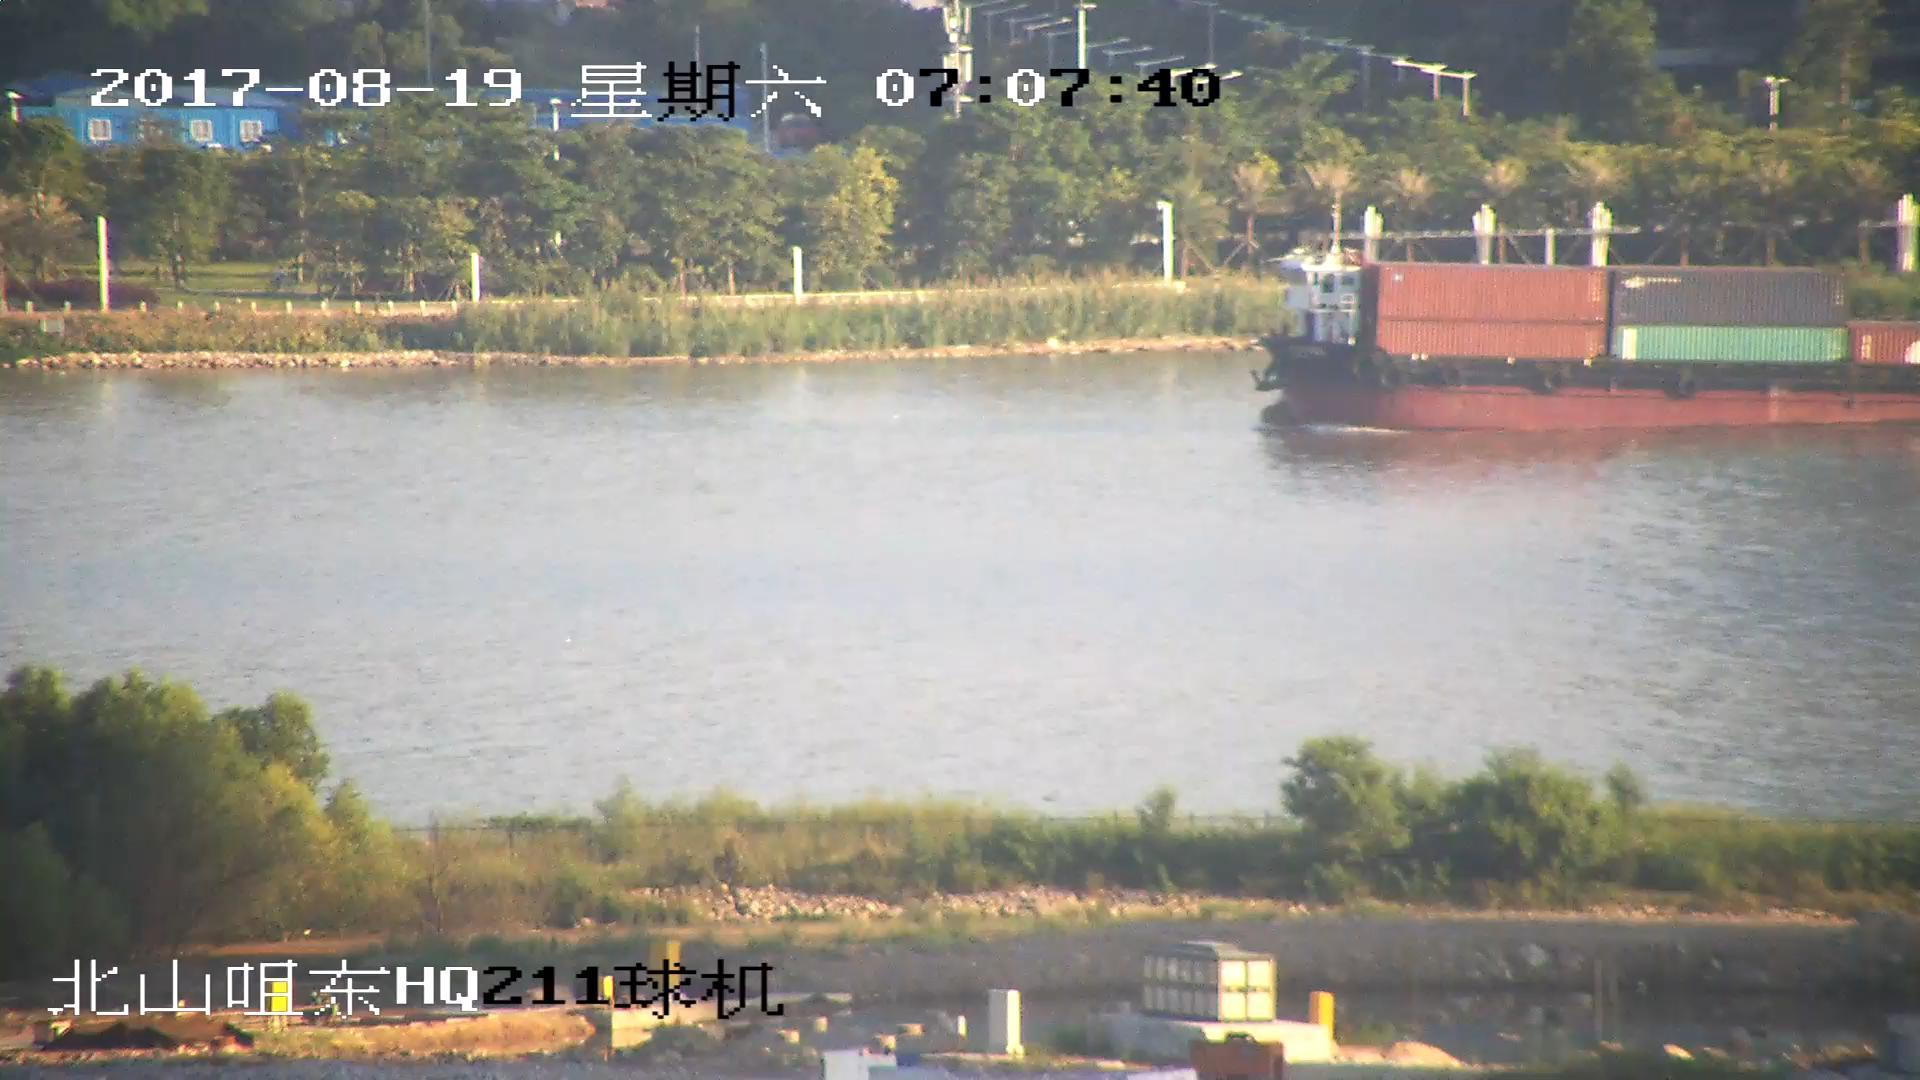Ship: (1257, 244, 1920, 433)
